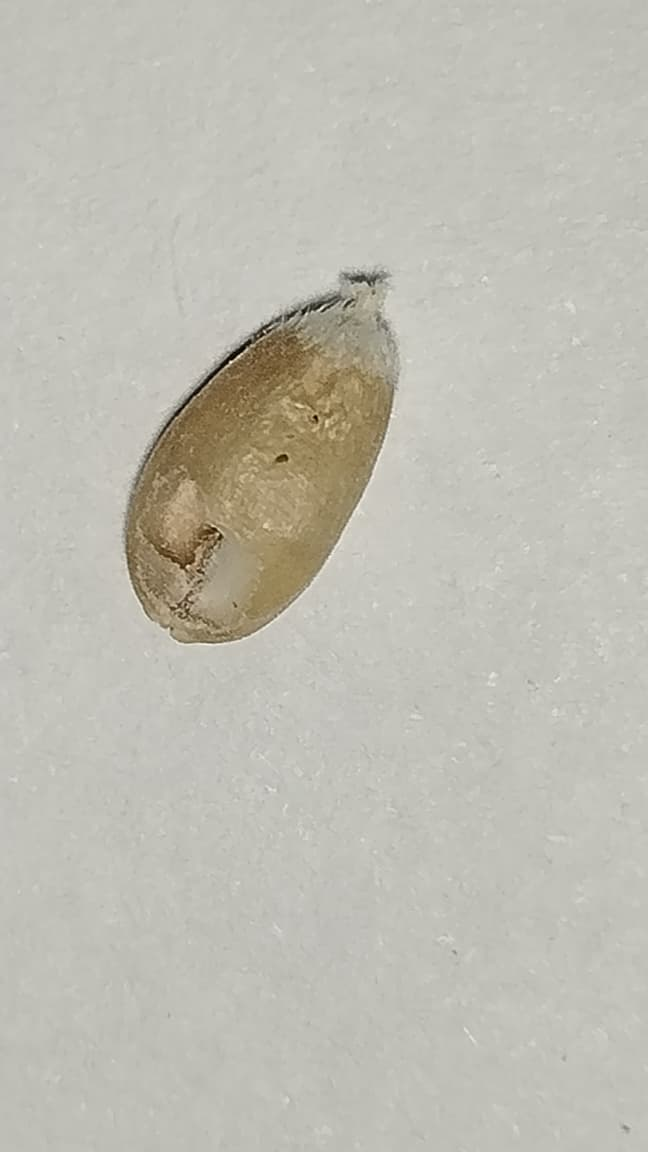damage: (127, 276, 397, 641)
insectdamage: (138, 452, 303, 645)
